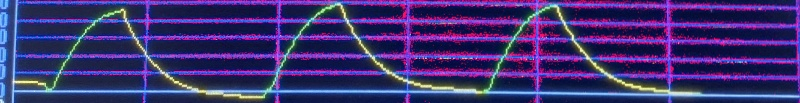normal_volume: (15, 0, 671, 100)
